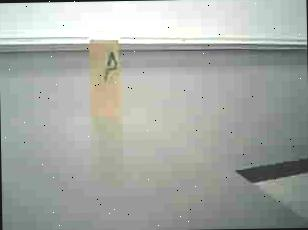Bottle A: (85, 31, 125, 123)
